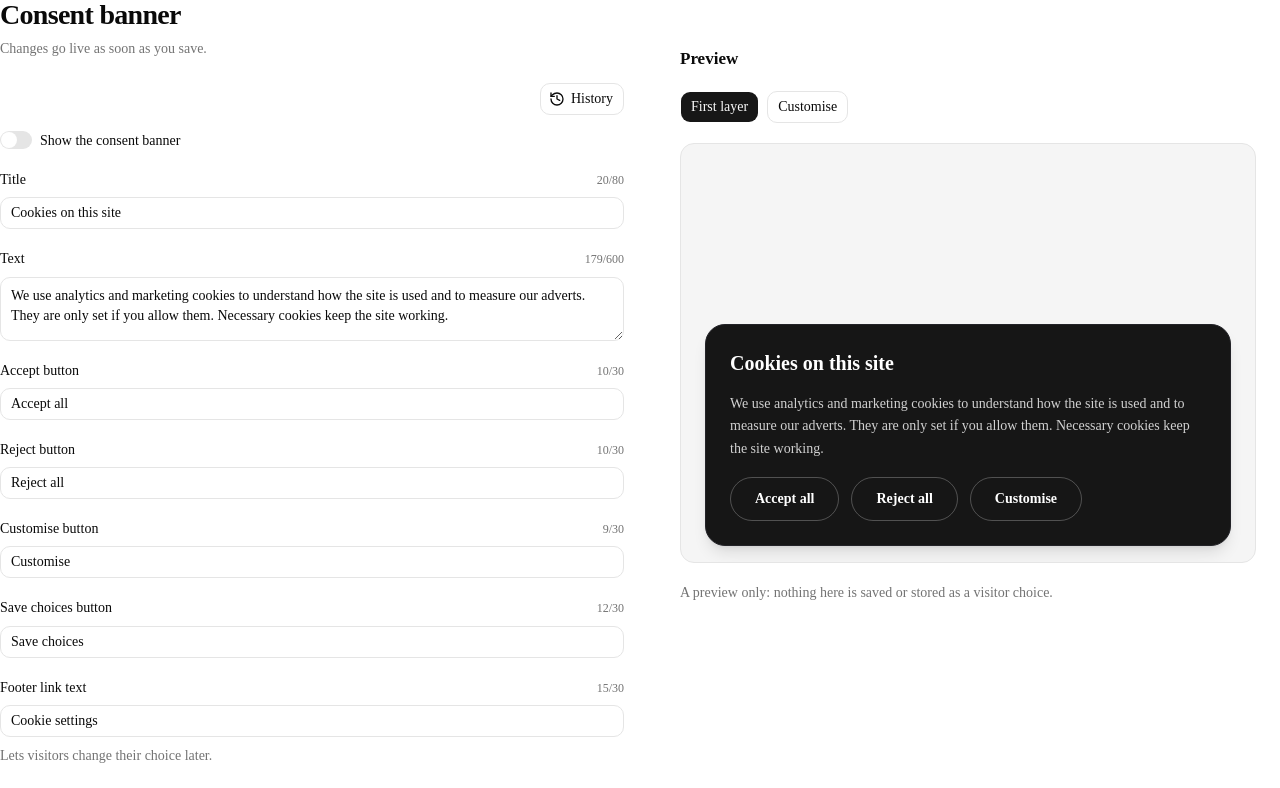
Test: ConsentView › updates the preview heading while typing, before saving
Check: the heading "Cookies on this site" is shown, box [730,352,894,374]
Replace the text in the field labelled "Title" with "Your privacy choices" at (312, 213), box [0,197,624,229]
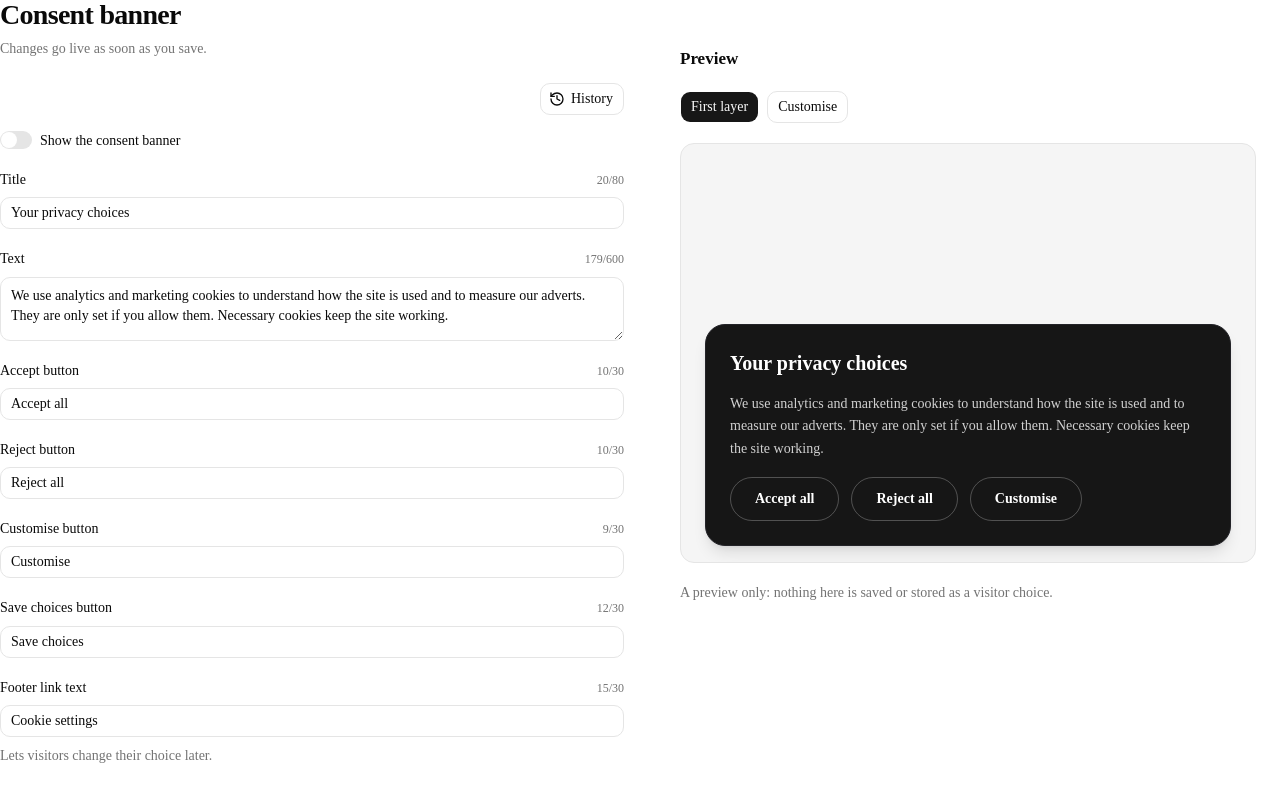
Check: the heading "Your privacy choices" is shown, box [730,352,907,374]
